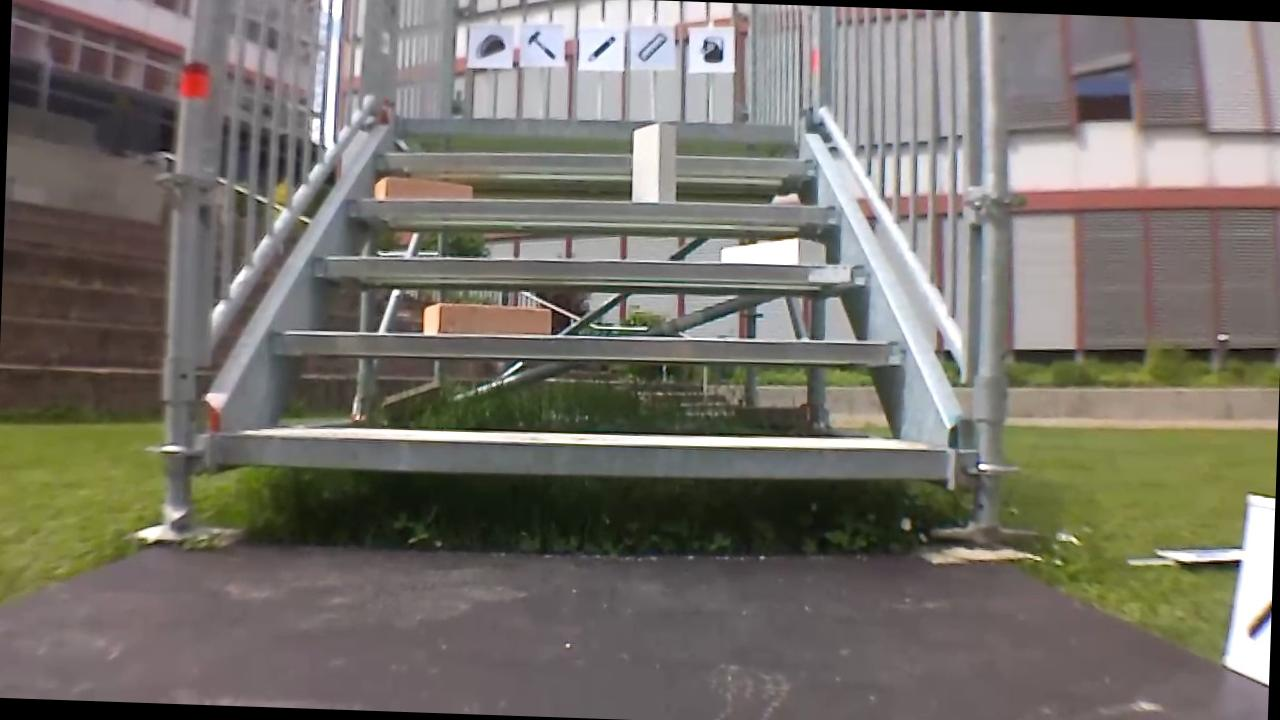brick: (421, 303, 550, 334), (631, 120, 675, 203), (720, 236, 825, 265), (374, 176, 471, 200)
bucket: (696, 31, 730, 65)
edge: (214, 421, 950, 489), (270, 322, 902, 372), (310, 245, 872, 292), (346, 187, 842, 229), (375, 143, 814, 179), (390, 112, 799, 145)
hammer: (521, 27, 561, 63)
pencil: (580, 29, 621, 68)
ruler: (634, 28, 672, 63)
steps: (202, 101, 978, 510)
taco: (470, 29, 509, 64)
